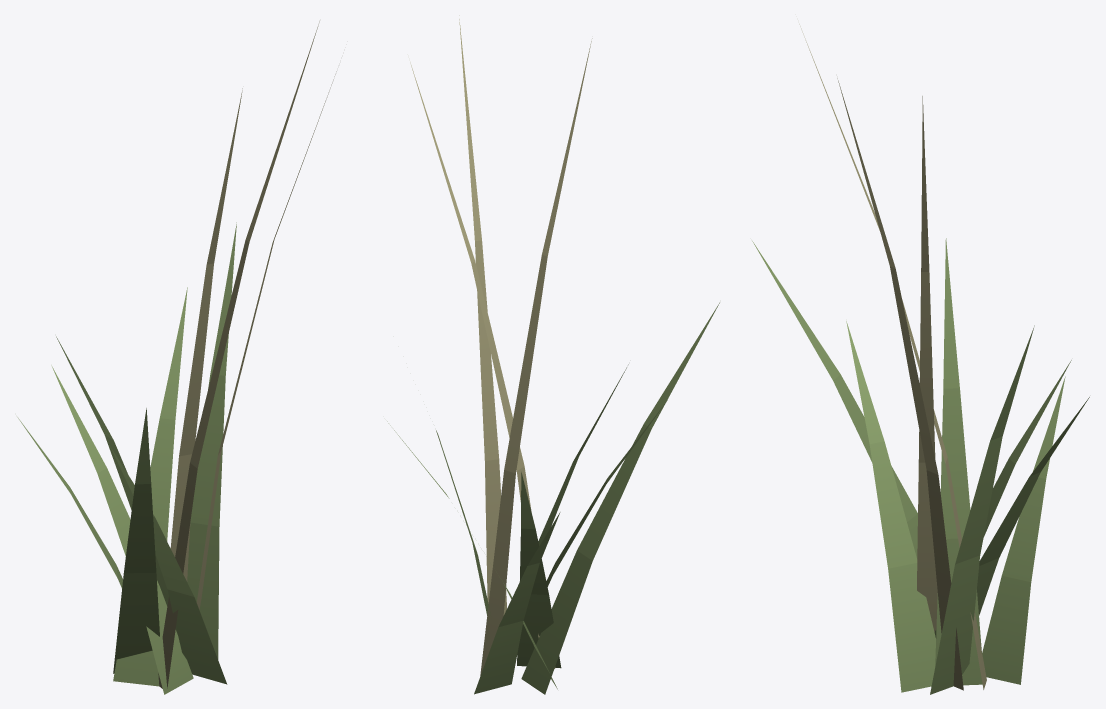
File: grass_7.glb
The picture shows the model from 3 angles, left to right: view 1: azimuth 30°, elevation 25°; view 2: azimuth 150°, elevation 25°; view 3: azimuth 270°, elevation 25°; orthographic projection. The views are drawn at different scales.
Visible parts, largest first — view 1: grass_7.001; view 2: grass_7.001; view 3: grass_7.001.
Part boxes in pixels (x1,y1,x2,y2): grass_7.001: (17, 21, 336, 694); grass_7.001: (387, 15, 719, 694); grass_7.001: (752, 24, 1089, 694).
Size of the model in its own units: 0.306 by 0.7341 by 0.3405.
